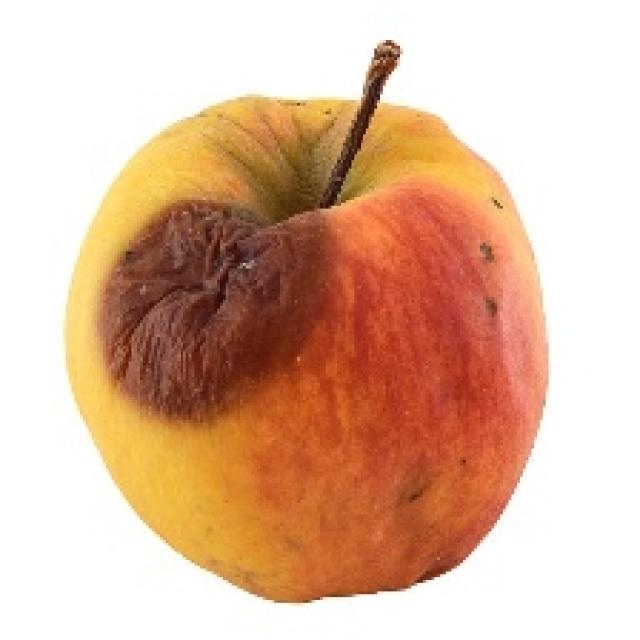rotten_apple: (71, 99, 544, 595)
